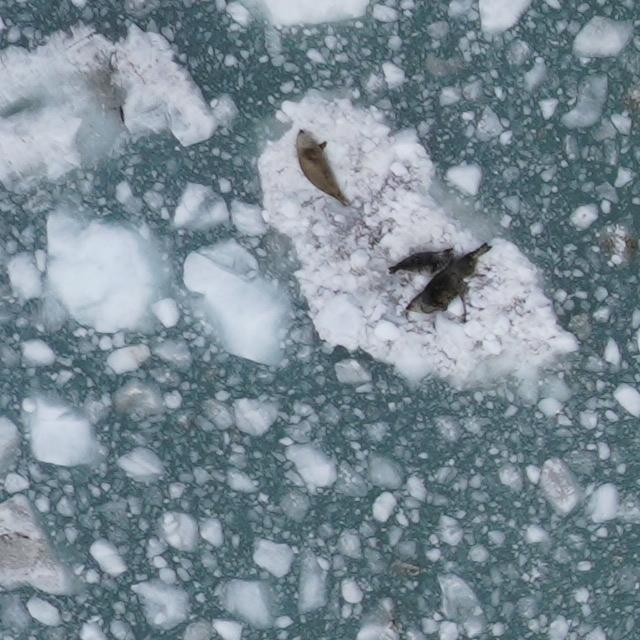seal: (396, 238, 495, 319), (292, 126, 355, 211), (386, 244, 461, 281)
